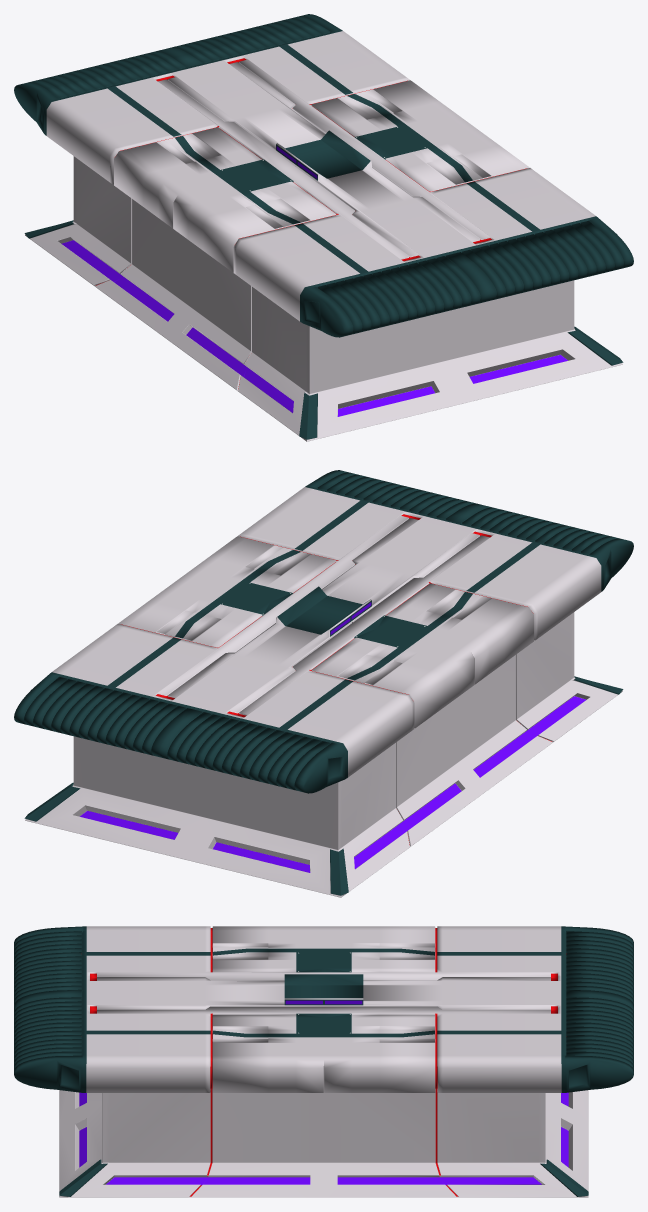
File: Table.fbx
3 renders of one model, top to bottom at view 1: azimuth 30°, elevation 25°; view 2: azimuth 150°, elevation 25°; view 3: azimuth 270°, elevation 25°, orthographic. The views are drawn at different scales.
Parts seen in each view (by area): view 1: Cube, Cube.001; view 2: Cube, Cube.001; view 3: Cube, Cube.001.
Boxes of the visible parts, x1,y1,x2,y2 form: Cube: [14, 14, 633, 337]; Cube.001: [24, 104, 623, 441]; Cube: [14, 470, 633, 793]; Cube.001: [24, 560, 623, 897]; Cube: [14, 926, 633, 1092]; Cube.001: [59, 1014, 588, 1197].
Size of the model in its own units: 124 by 54.82 by 221.
